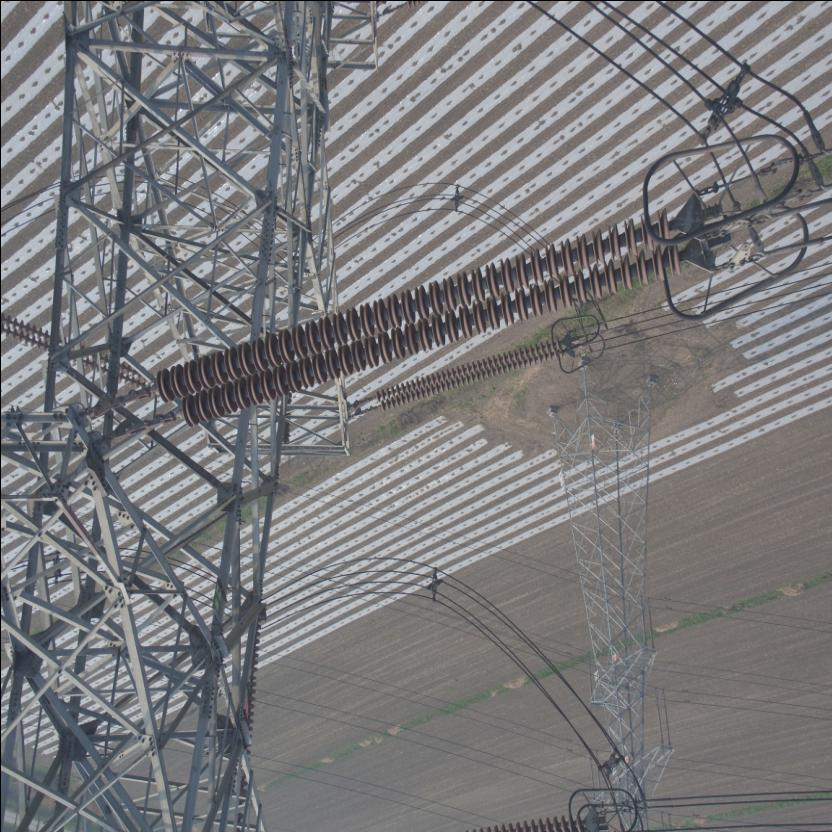insulator: (136, 214, 686, 430), (368, 336, 564, 420)
